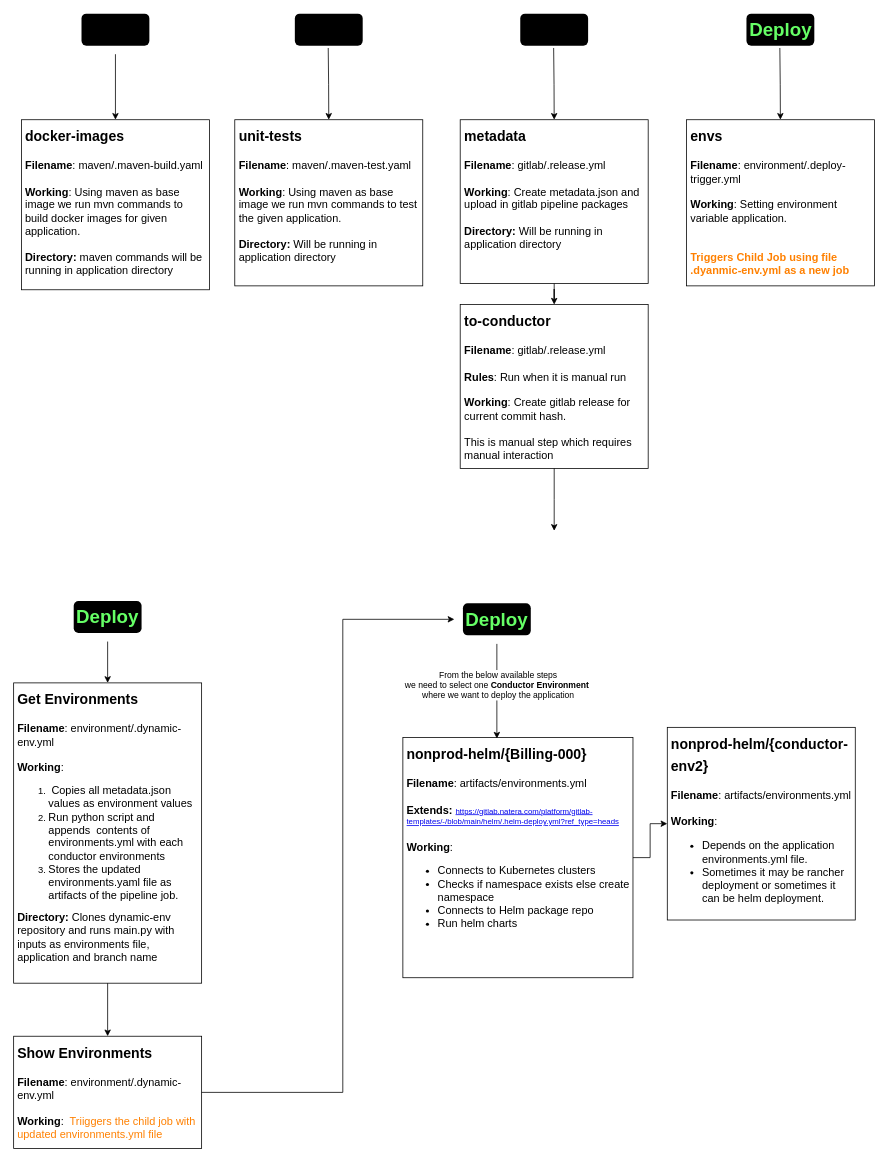
This 888x1162 diagram has some shape labels left out. Each missing label, with the box of its shape:
Build: (81, 13, 149, 45)
release: (520, 13, 588, 45)
Test: (294, 13, 362, 45)
